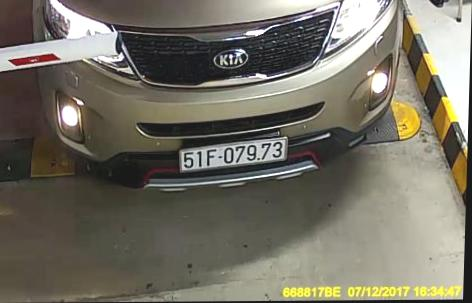License_Plate: (173, 139, 294, 171)
